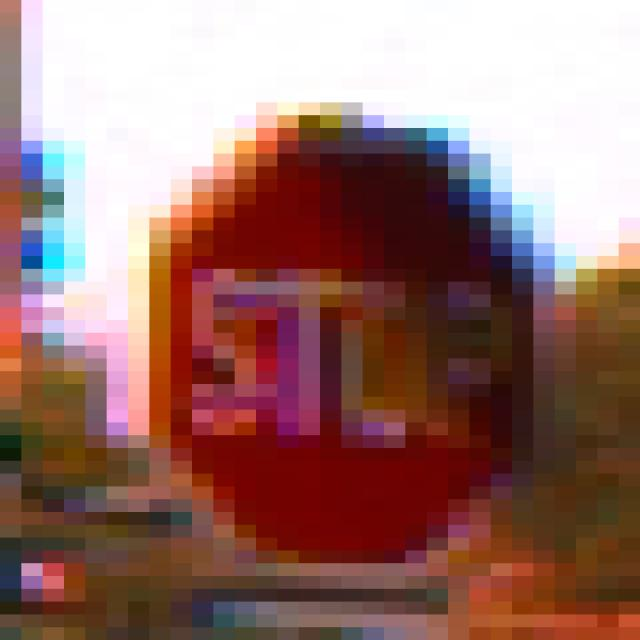STOP: (108, 78, 513, 564)
